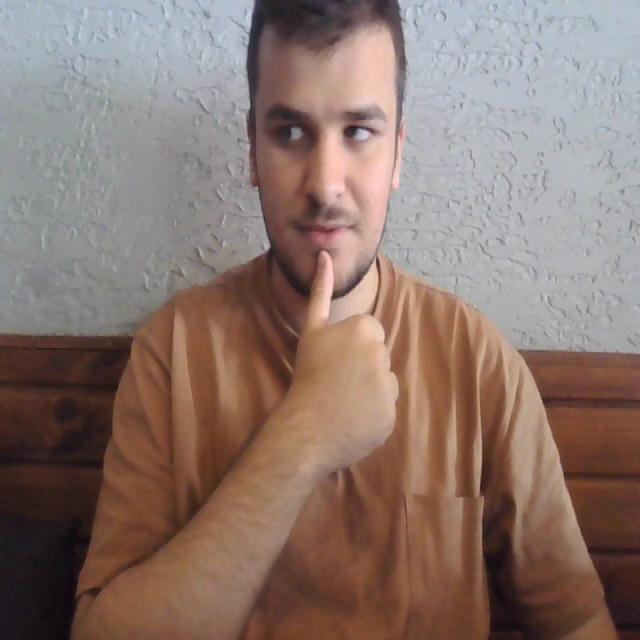Baba: (267, 202, 356, 322)
